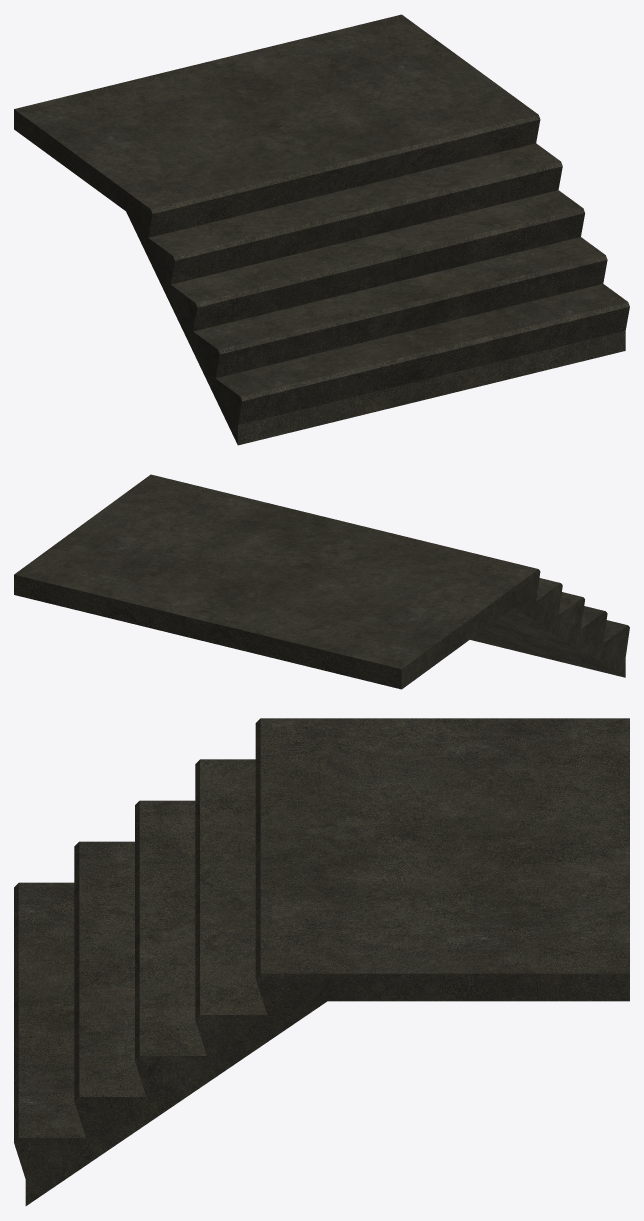
The model's file is stairs_4.glb.
The picture shows the model from 3 angles, top to bottom: view 1: azimuth 30°, elevation 25°; view 2: azimuth 150°, elevation 25°; view 3: azimuth 270°, elevation 25°; orthographic projection. The views are drawn at different scales.
Parts seen in each view (by area): view 1: stairs_4; view 2: stairs_4; view 3: stairs_4.
Part boxes in pixels (x1,y1,x2,y2): stairs_4: (14,14,629,445); stairs_4: (14,474,629,689); stairs_4: (14,718,629,1205).
Size of the model in its own units: 4 by 1.7 by 4.08.
Materials: 1 (1 with a texture image).
